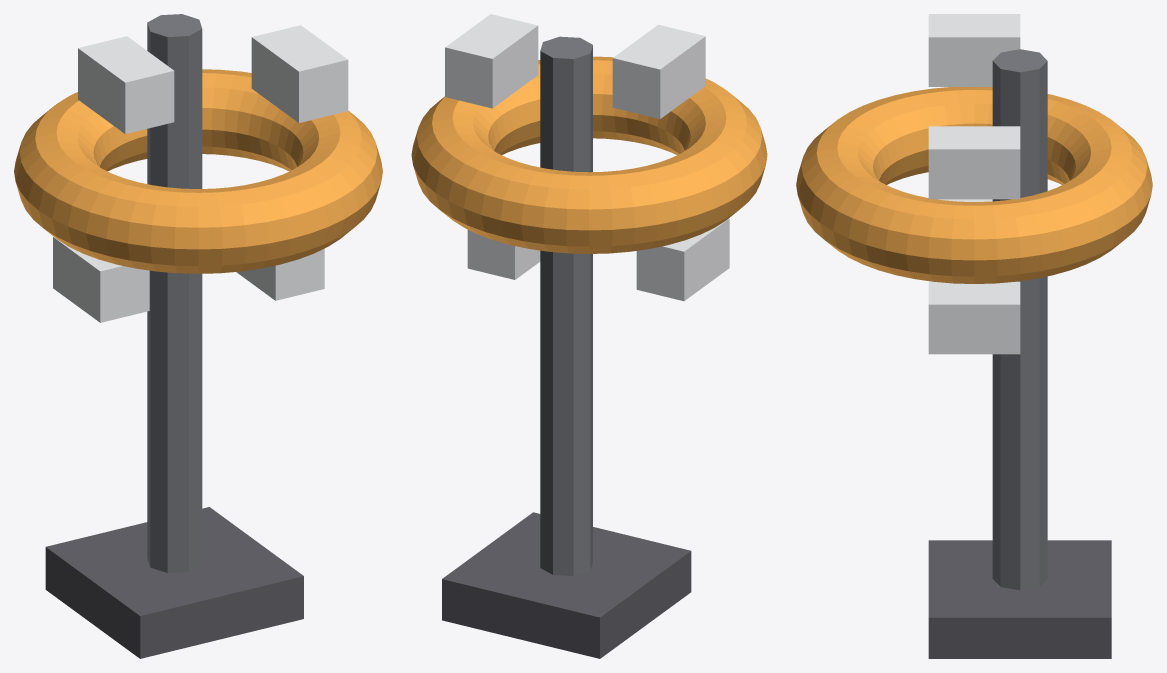
File: bt-hw-lifering.glb
3 views of the same model, side by side, from view 1: azimuth 30°, elevation 25°; view 2: azimuth 150°, elevation 25°; view 3: azimuth 270°, elevation 25° (orthographic). The views are drawn at different scales.
Parts seen in each view (by area): view 1: bt-hw-lifering_ring, bt-hw-lifering_post, bt-hw-lifering_base, bt-hw-lifering_tape0.6, bt-hw-lifering_tape2.2, bt-hw-lifering_tape3.8, bt-hw-lifering_tape5.4; view 2: bt-hw-lifering_ring, bt-hw-lifering_post, bt-hw-lifering_base, bt-hw-lifering_tape0.6, bt-hw-lifering_tape2.2, bt-hw-lifering_tape3.8, bt-hw-lifering_tape5.4; view 3: bt-hw-lifering_ring, bt-hw-lifering_post, bt-hw-lifering_base, bt-hw-lifering_tape0.6, bt-hw-lifering_tape5.4, bt-hw-lifering_tape2.2.
Part boxes in pixels (x1,y1,x2,y2): bt-hw-lifering_ring: (14, 69, 382, 273); bt-hw-lifering_post: (147, 14, 202, 572); bt-hw-lifering_base: (45, 507, 303, 658); bt-hw-lifering_tape0.6: (251, 25, 348, 122); bt-hw-lifering_tape2.2: (78, 36, 174, 133); bt-hw-lifering_tape3.8: (53, 236, 149, 322); bt-hw-lifering_tape5.4: (236, 248, 324, 300); bt-hw-lifering_ring: (411, 56, 767, 253); bt-hw-lifering_post: (540, 36, 592, 575); bt-hw-lifering_base: (442, 512, 691, 658); bt-hw-lifering_tape0.6: (445, 14, 538, 108); bt-hw-lifering_tape2.2: (612, 24, 705, 118); bt-hw-lifering_tape3.8: (636, 218, 729, 301); bt-hw-lifering_tape5.4: (467, 230, 540, 279); bt-hw-lifering_ring: (796, 87, 1152, 283); bt-hw-lifering_post: (992, 49, 1047, 590); bt-hw-lifering_base: (928, 540, 1111, 658); bt-hw-lifering_tape0.6: (928, 126, 1020, 199); bt-hw-lifering_tape5.4: (928, 281, 1020, 354); bt-hw-lifering_tape2.2: (928, 14, 1020, 86).
Bounding box in the file's own units: 0.78 × 1.35 × 0.78.
